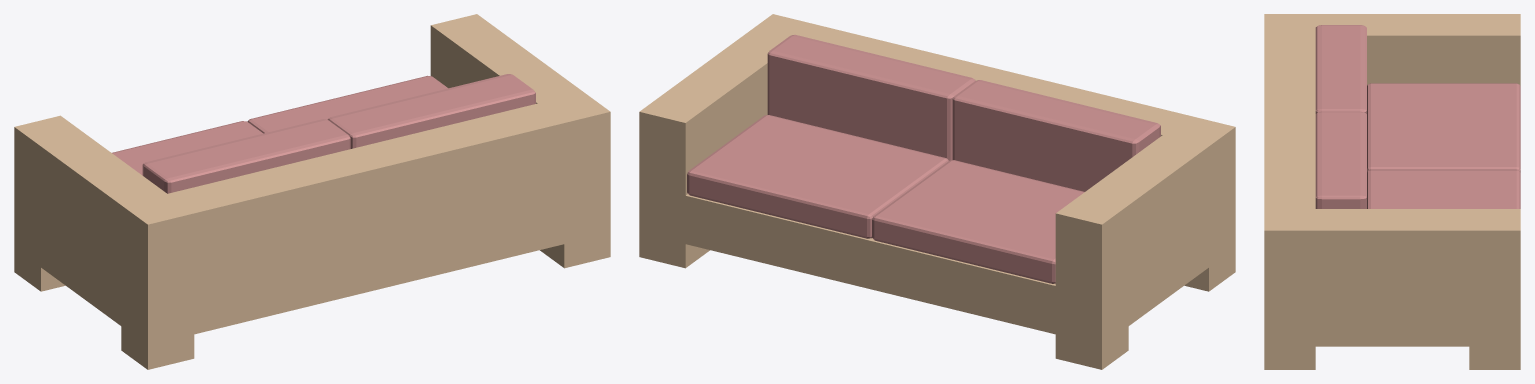
File: sofa.fbx
3 views of the same model, side by side, from view 1: azimuth 30°, elevation 25°; view 2: azimuth 150°, elevation 25°; view 3: azimuth 270°, elevation 25° (orthographic). The views are drawn at different scales.
Parts seen in each view (by area): view 1: sofa_mesh, back_cushion_right_mesh, back_cushion_left_mesh, cushion_left_mesh, cushion_right_mesh; view 2: sofa_mesh, cushion_left_mesh, back_cushion_left_mesh, cushion_right_mesh, back_cushion_right_mesh; view 3: sofa_mesh, cushion_right_mesh, cushion_left_mesh, back_cushion_left_mesh, back_cushion_right_mesh.
Boxes of the visible parts, left/top/right/bottom form: sofa_mesh: left=14, top=14, right=610, bottom=369; back_cushion_right_mesh: left=142, top=119, right=350, bottom=193; back_cushion_left_mesh: left=327, top=74, right=535, bottom=148; cushion_left_mesh: left=247, top=75, right=447, bottom=133; cushion_right_mesh: left=112, top=121, right=262, bottom=175; sofa_mesh: left=639, top=14, right=1235, bottom=369; cushion_left_mesh: left=687, top=115, right=948, bottom=238; back_cushion_left_mesh: left=767, top=34, right=975, bottom=160; cushion_right_mesh: left=872, top=160, right=1084, bottom=283; back_cushion_right_mesh: left=952, top=80, right=1160, bottom=191; sofa_mesh: left=1264, top=14, right=1520, bottom=369; cushion_right_mesh: left=1367, top=83, right=1520, bottom=172; cushion_left_mesh: left=1367, top=170, right=1520, bottom=208; back_cushion_left_mesh: left=1315, top=111, right=1366, bottom=208; back_cushion_right_mesh: left=1315, top=25, right=1366, bottom=113.
Bounding box in the file's own units: 200 × 65 × 100.
